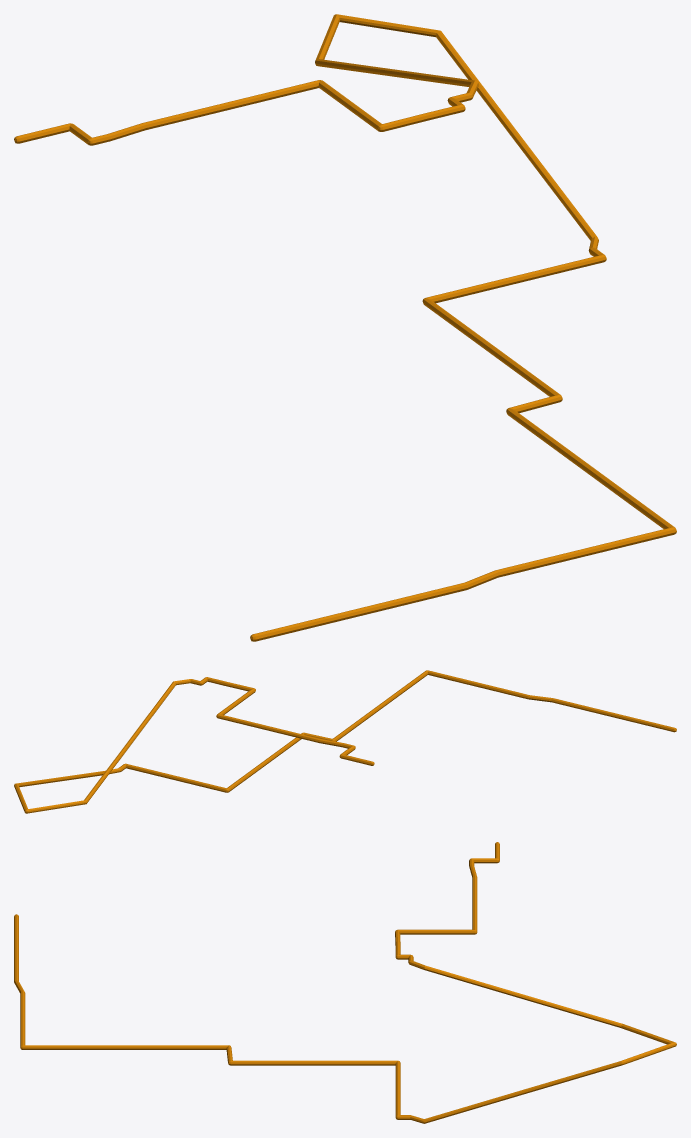
3 renders of one model, top to bottom at view 1: azimuth 30°, elevation 25°; view 2: azimuth 150°, elevation 25°; view 3: azimuth 270°, elevation 25°, orthographic. The views are drawn at different scales.
Size of the model in its own units: 1900 by 520 by 2572.
